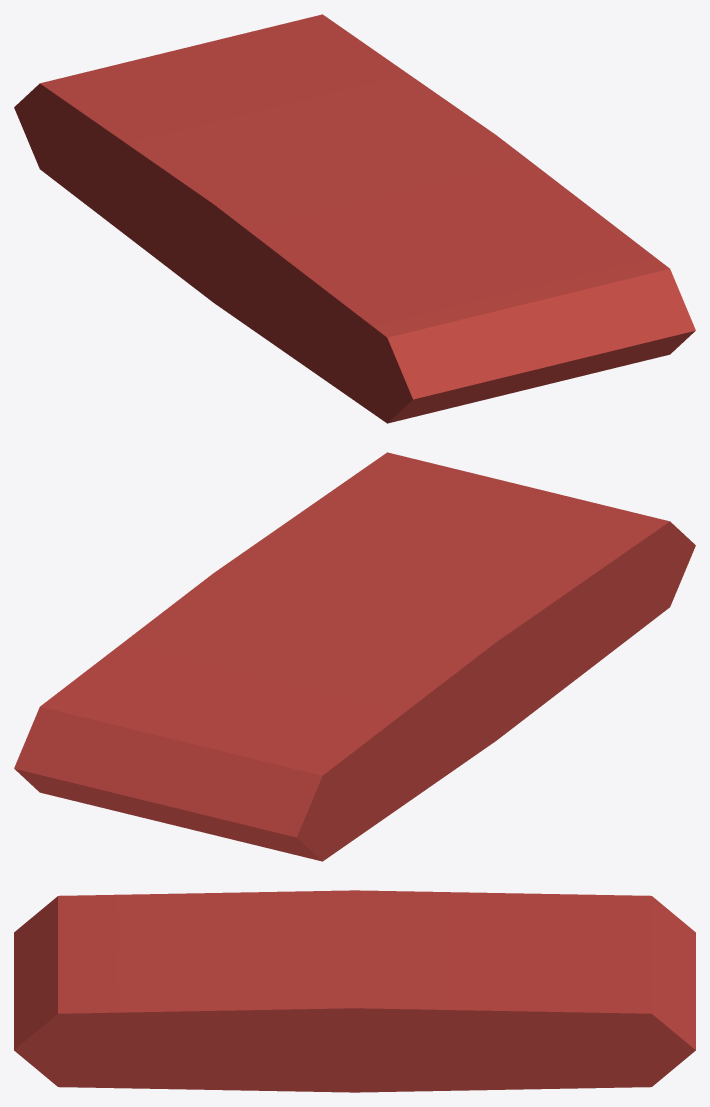
Rendered from bar_lod2.glb.
The picture shows the model from 3 angles, top to bottom: view 1: azimuth 30°, elevation 25°; view 2: azimuth 150°, elevation 25°; view 3: azimuth 270°, elevation 25°; orthographic projection. The views are drawn at different scales.
Visible parts, largest first — view 1: bar_lod2; view 2: bar_lod2; view 3: bar_lod2.
Part boxes in pixels (x1,y1,x2,y2): bar_lod2: (14, 14, 695, 423); bar_lod2: (14, 452, 695, 861); bar_lod2: (14, 890, 695, 1092).
Size of the model in its own units: 0.09 by 0.03 by 0.22.
